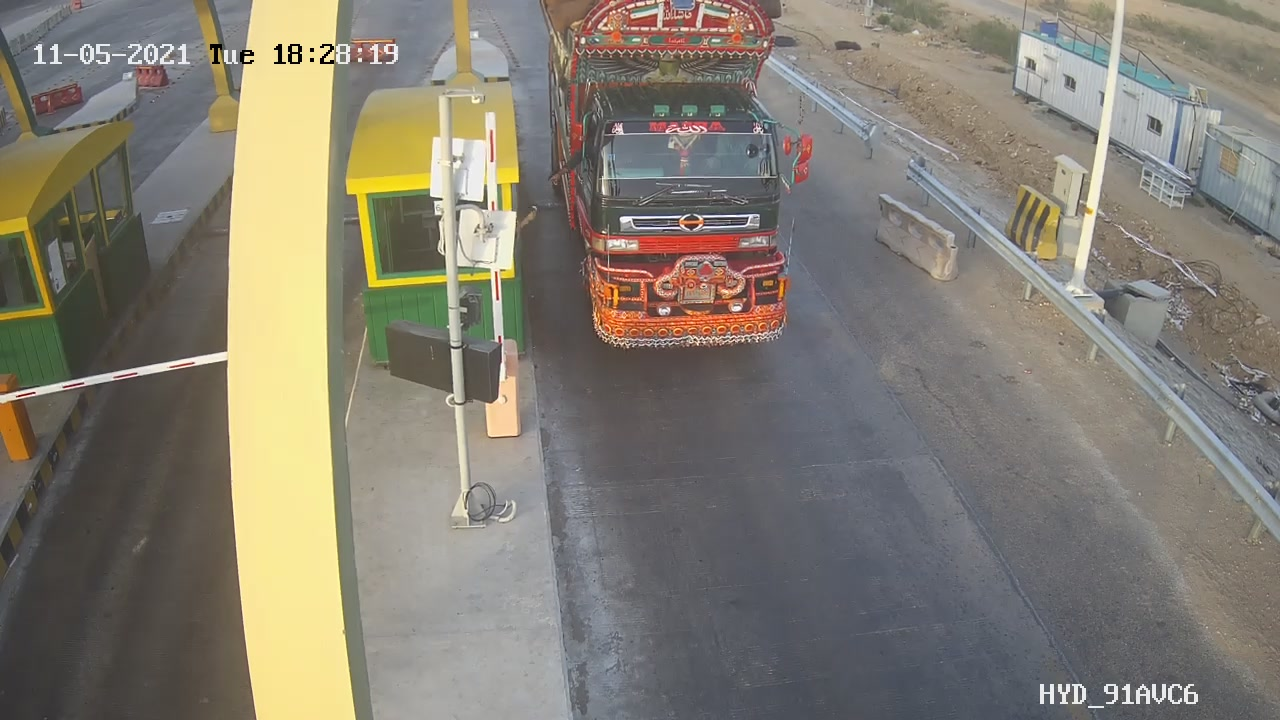F5: (540, 6, 818, 371)
